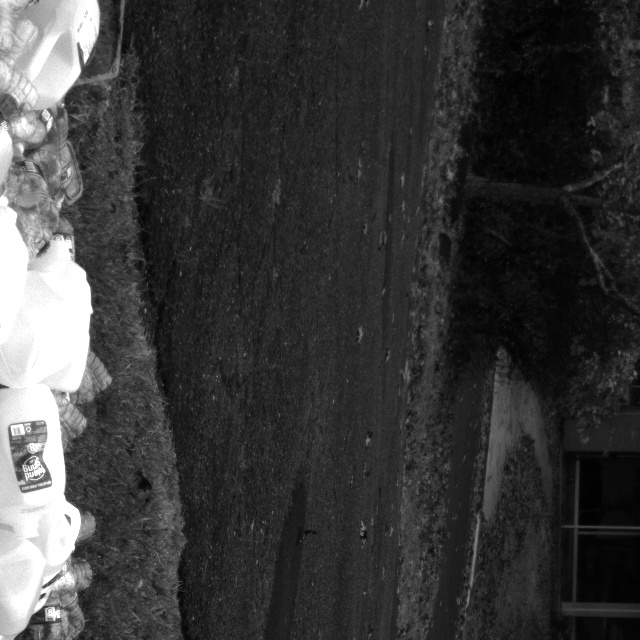bottle: (6, 106, 65, 177), (25, 582, 71, 640), (83, 342, 117, 392), (60, 390, 90, 436)
can: (5, 235, 96, 390), (1, 0, 102, 109), (0, 388, 66, 539)
container: (47, 0, 140, 96), (57, 140, 91, 207)
